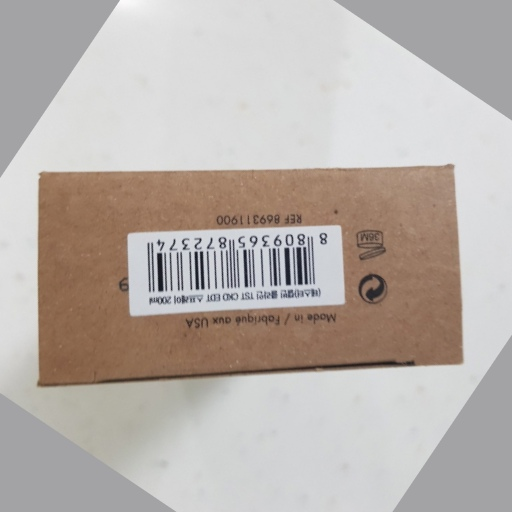Paper_0: (32, 164, 467, 390)
